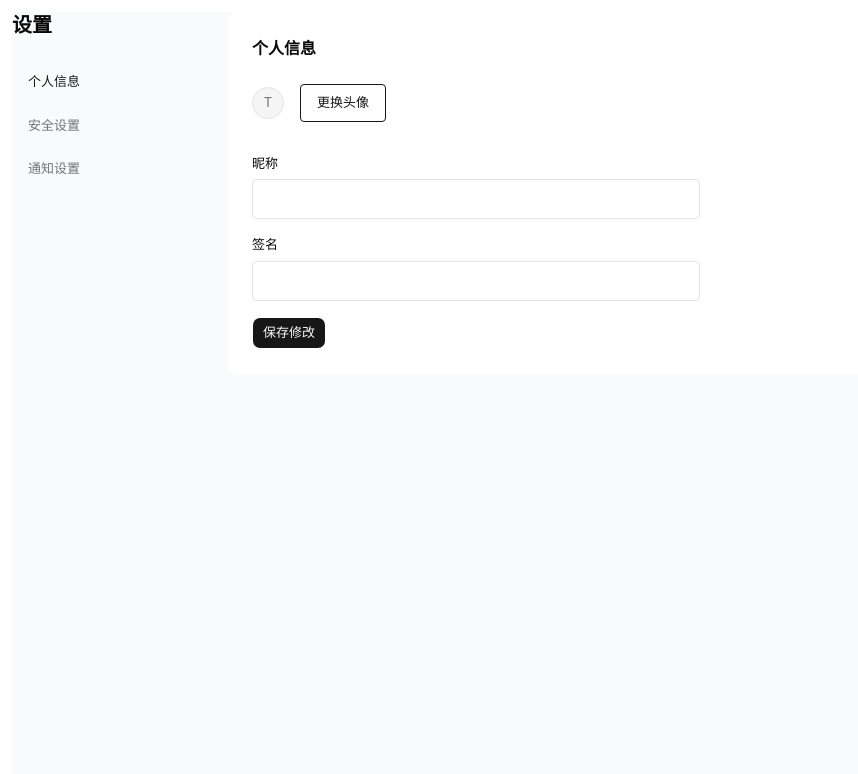
Test: SettingsPage › switches to security section
Click the button "安全设置" at (108, 125), box [12, 106, 204, 145]
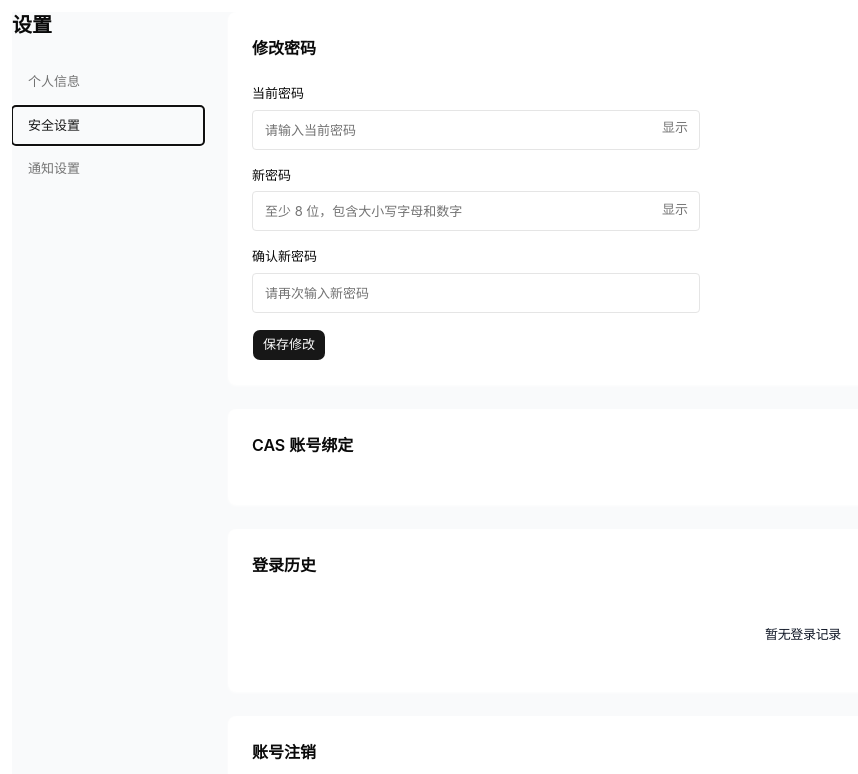
Check: the heading "修改密码" is shown, box [252, 38, 316, 58]
